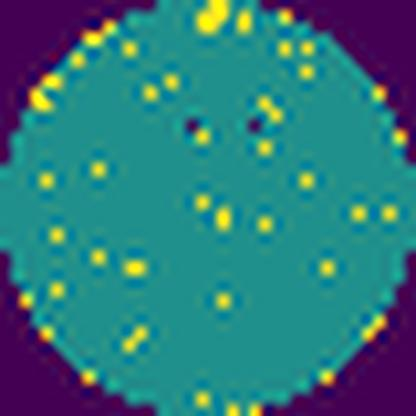Loc: (197, 0, 233, 33)
